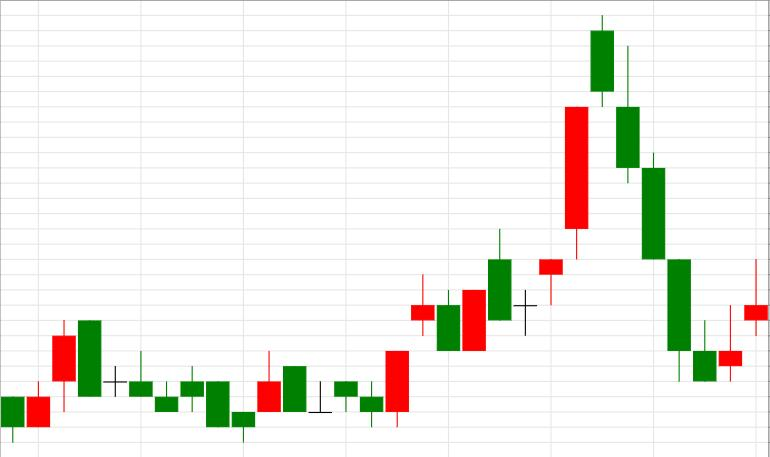three_black_crows_fall: (463, 14, 691, 382)
